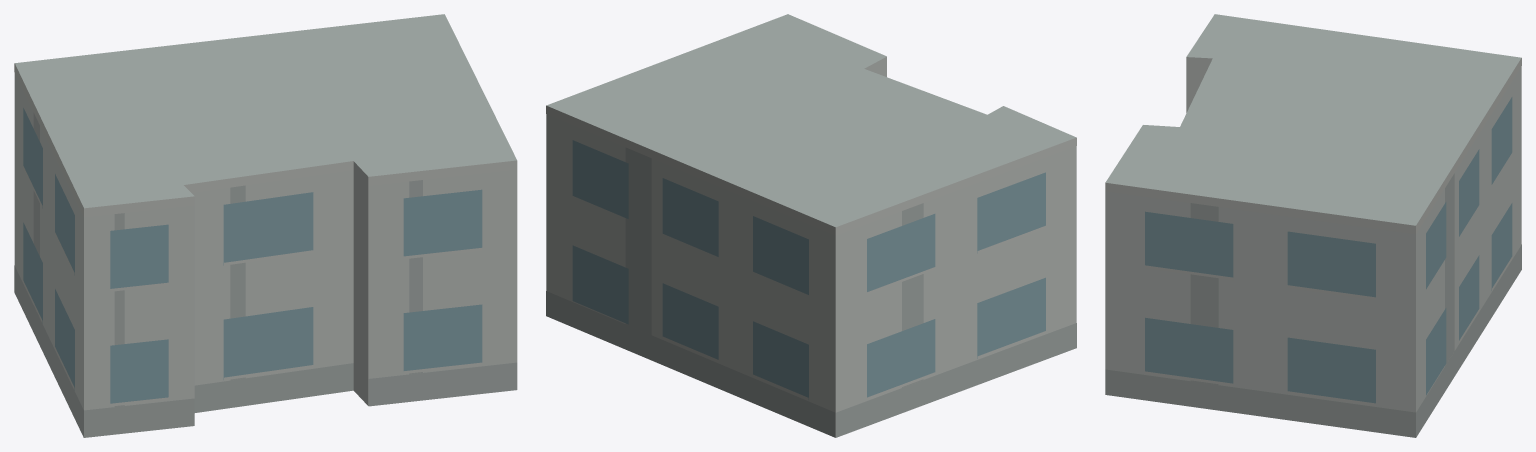
The model's file is survey-upis-32818719.glb.
3 views of the same model, side by side, from view 1: azimuth 30°, elevation 25°; view 2: azimuth 150°, elevation 25°; view 3: azimuth 270°, elevation 25° (orthographic). The views are drawn at different scales.
Visible parts, largest first — view 1: survey-upis-32818719.tmp; view 2: survey-upis-32818719.tmp; view 3: survey-upis-32818719.tmp.
Part boxes in pixels (x1,y1,x2,y2): survey-upis-32818719.tmp: [14, 14, 517, 437]; survey-upis-32818719.tmp: [546, 14, 1076, 437]; survey-upis-32818719.tmp: [1105, 14, 1521, 437].
Bounding box in the file's own units: 13.07 × 6.1 × 10.86.
